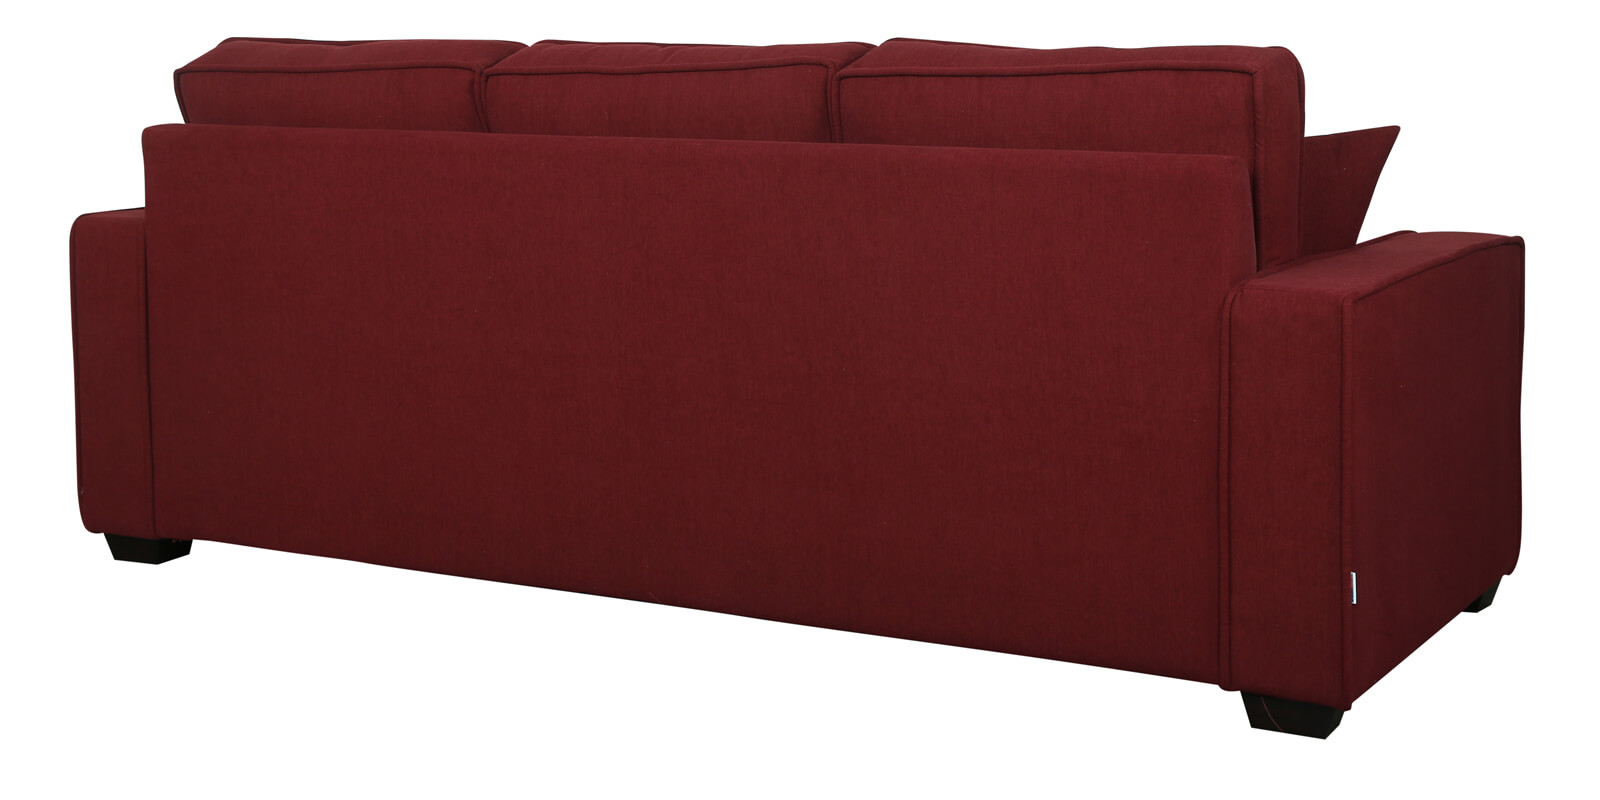Hugo Three Seater Sofa in Garnet Red Colour by CasaCraft: (55, 24, 1550, 774)
